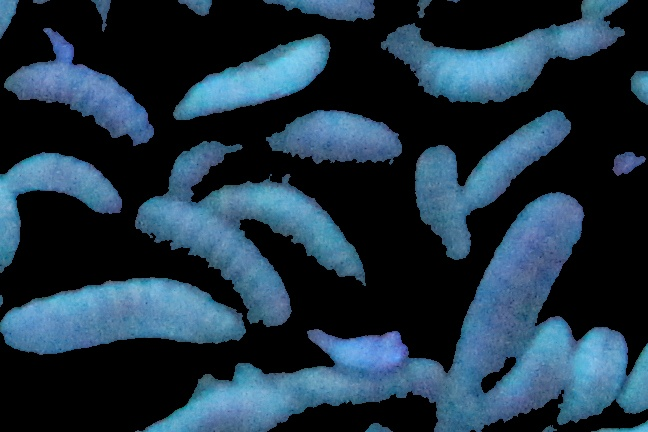larvae: (445, 190, 584, 432), (212, 184, 372, 302), (140, 198, 290, 323), (172, 115, 400, 190), (1, 283, 244, 348), (383, 26, 550, 117), (1, 62, 154, 149), (171, 34, 329, 117), (271, 348, 438, 419), (464, 112, 566, 210), (493, 319, 578, 431), (410, 148, 477, 265), (8, 152, 120, 220), (569, 318, 631, 432), (147, 384, 281, 432)
